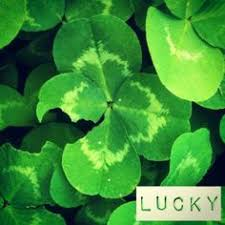4-clover: (35, 17, 195, 198)
